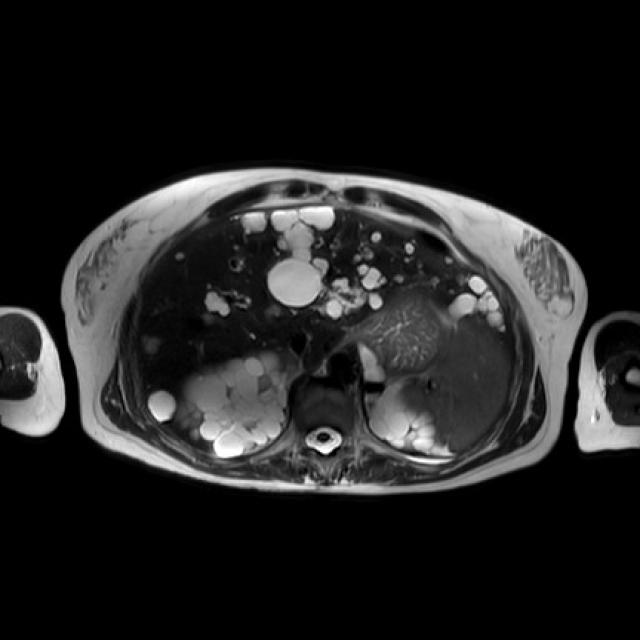sag: (180, 350, 287, 459)
sol: (363, 349, 451, 455)
